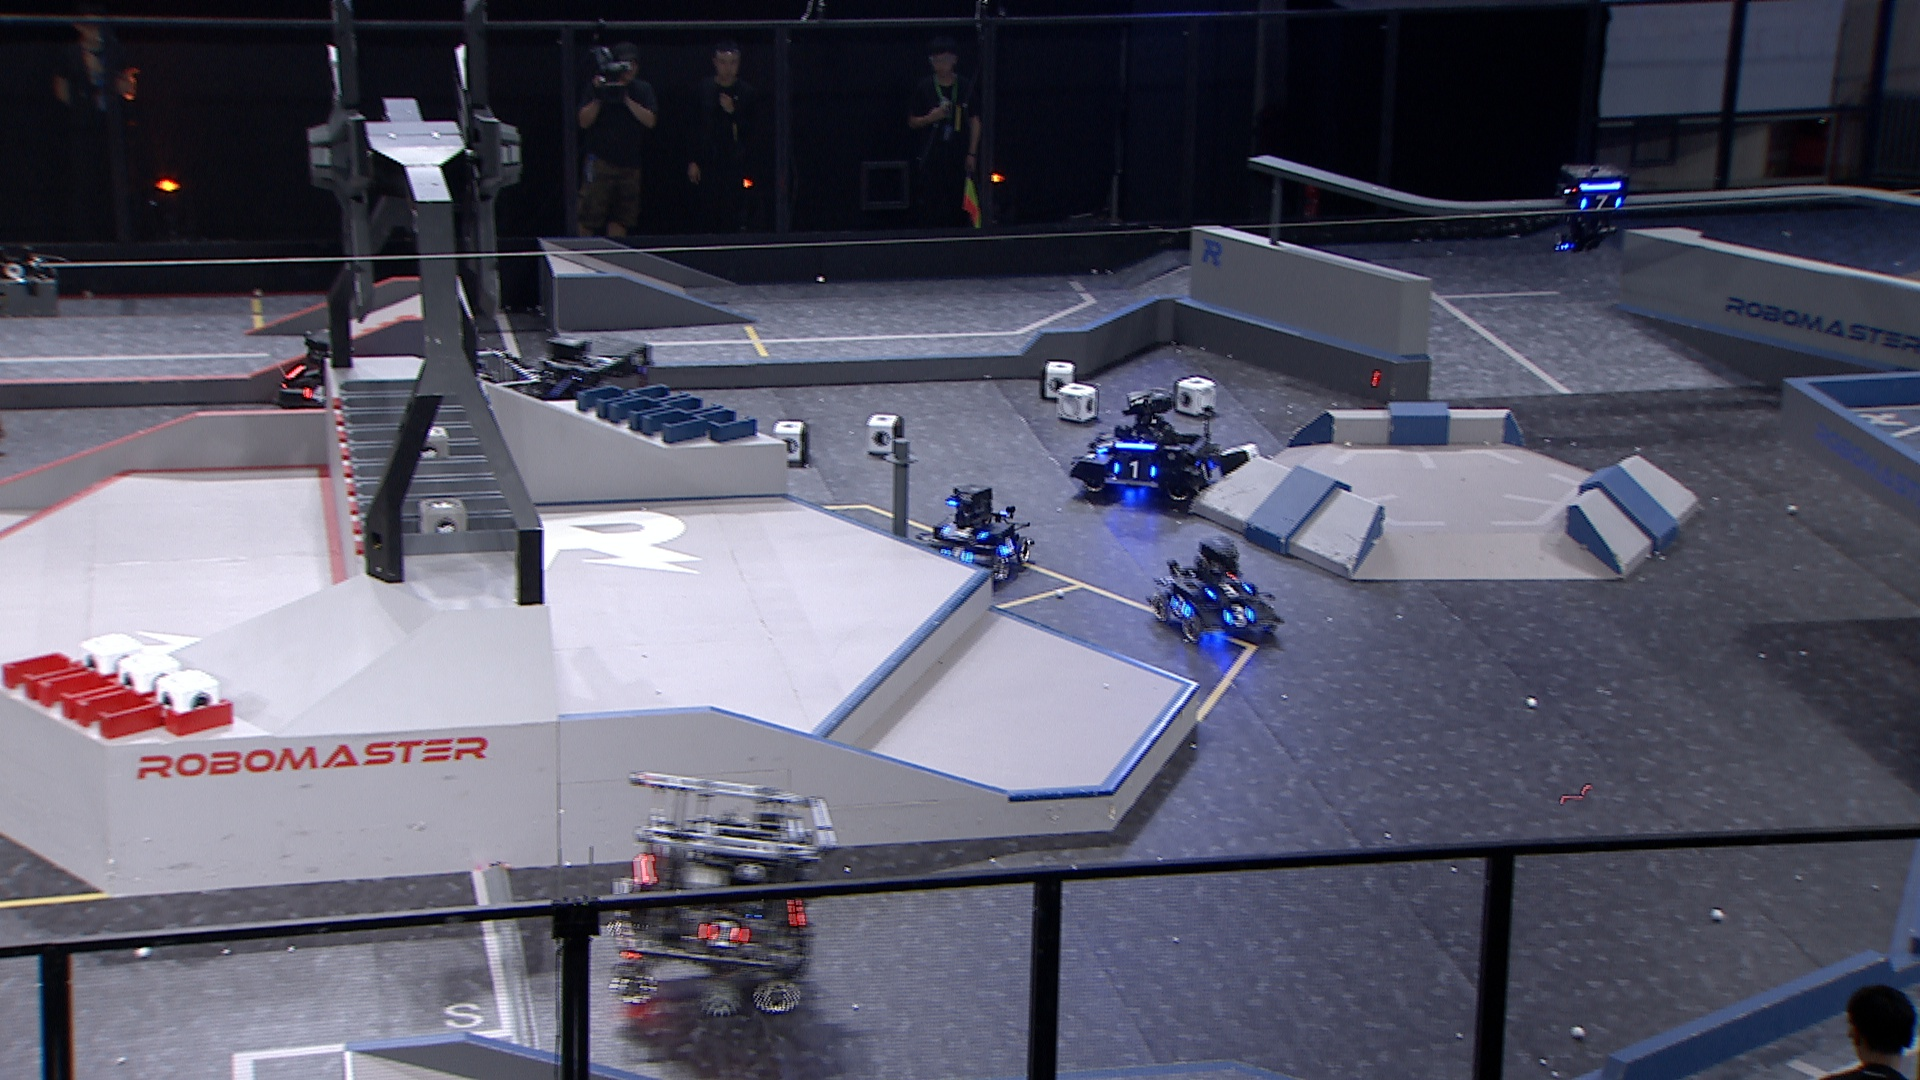armor: (702, 922, 742, 949), (944, 524, 984, 543), (1116, 462, 1158, 480), (1095, 434, 1120, 460), (1581, 194, 1622, 210), (1166, 595, 1192, 618), (939, 546, 972, 564), (1212, 582, 1250, 597), (998, 531, 1019, 559), (1224, 605, 1251, 624), (305, 385, 328, 404), (1199, 458, 1216, 480)
car: (599, 767, 835, 1021), (1069, 386, 1216, 506), (430, 339, 560, 463), (526, 334, 650, 454), (1149, 537, 1280, 644), (273, 328, 389, 438), (920, 485, 1030, 595)
watcher: (1553, 157, 1629, 255)
